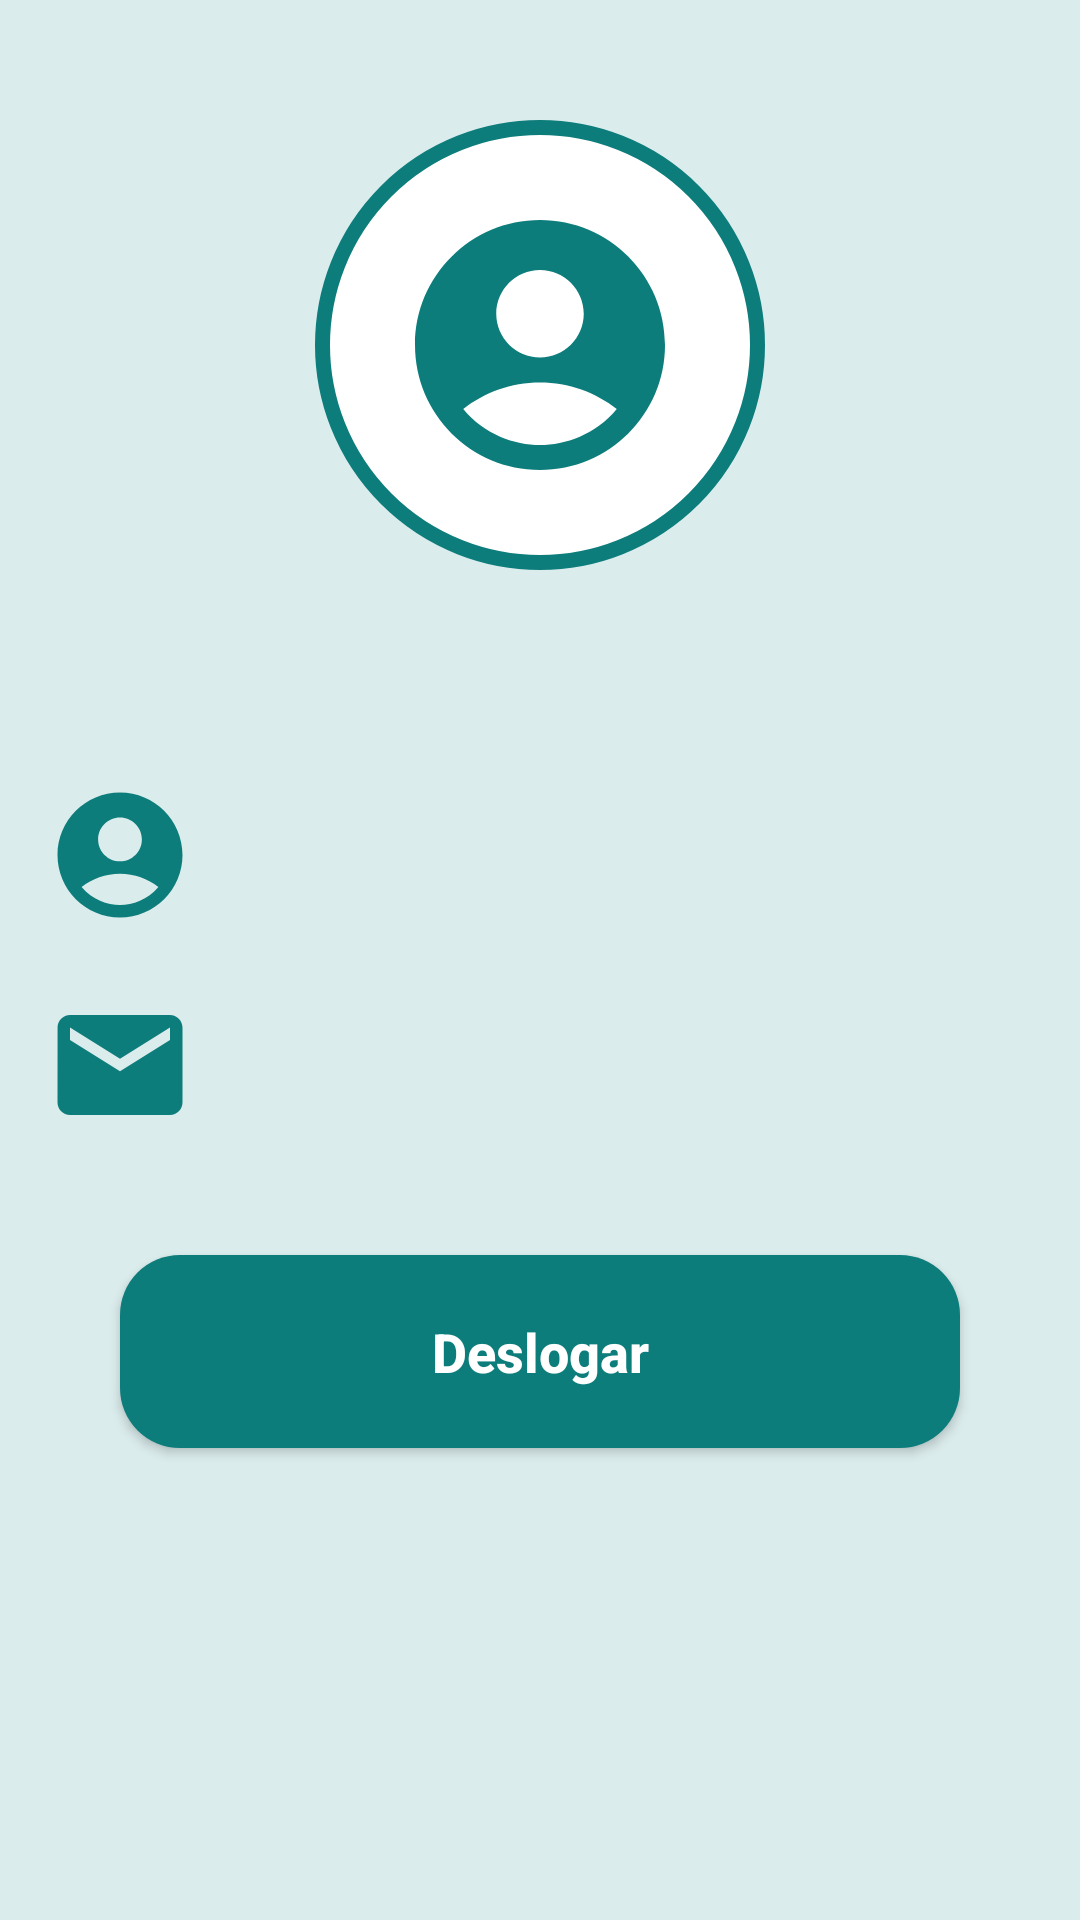

Icons on this 1080 x 1920 Android screen, each with the point to tap as [x,y]:
email: [120,1065]
